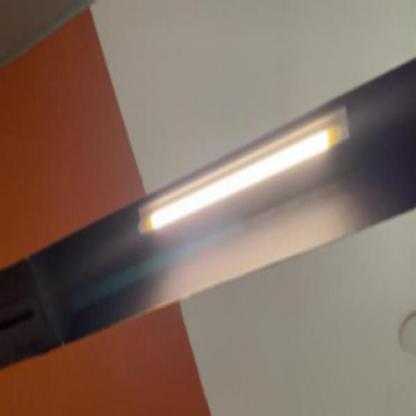light_on: (129, 87, 356, 254)
